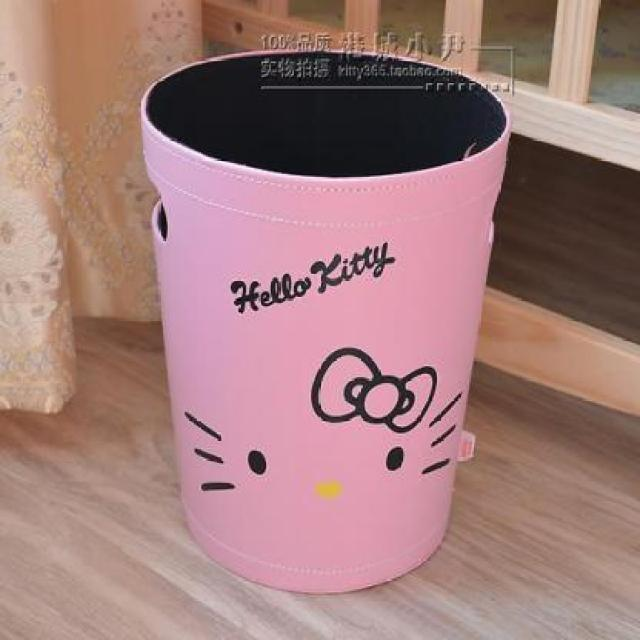dustbin: (137, 40, 515, 598)
